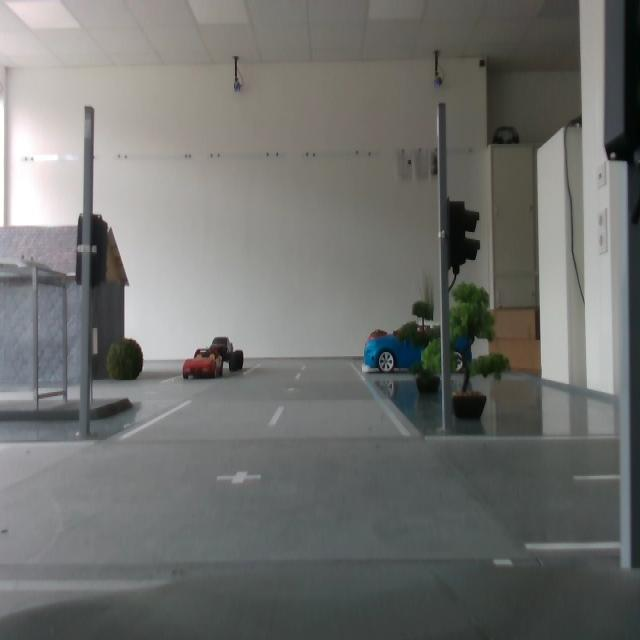car: (363, 324, 471, 374), (182, 346, 225, 383), (204, 336, 246, 373)
potted plant: (423, 281, 515, 419), (400, 301, 443, 397), (104, 335, 147, 386), (419, 273, 436, 355), (367, 329, 393, 366)
traffic light: (75, 211, 109, 291), (447, 199, 481, 275)
